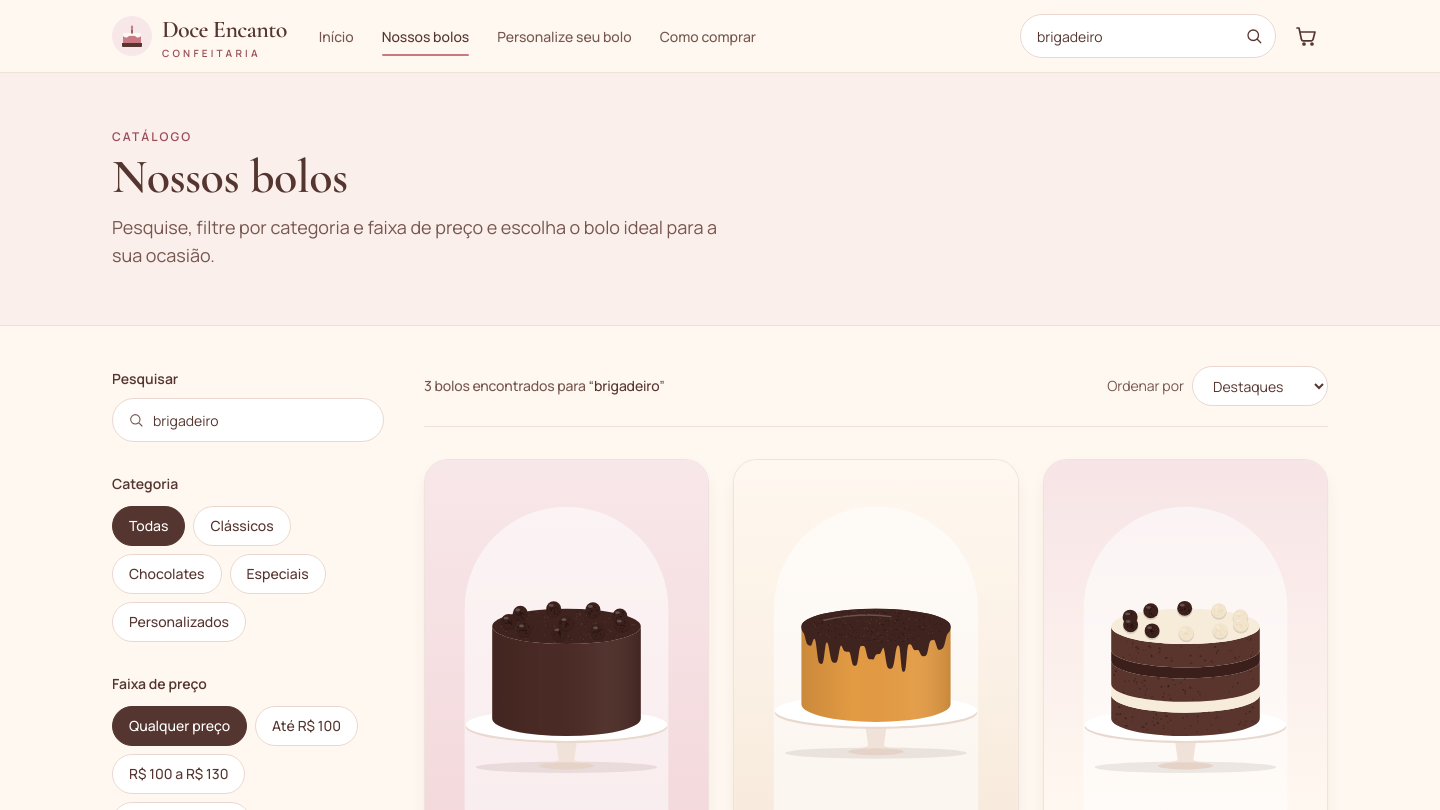
Test: catálogo integrado › combina pesquisa, categoria e preço sem perder a pesquisa
The image size is (1440, 810).
Expected: the heading "3 bolos encontrados para “brigadeiro”" is shown, [424, 376, 665, 396]
Click the radio button labelled "Chocolates".
click(167, 574)  # box [112, 554, 222, 594]
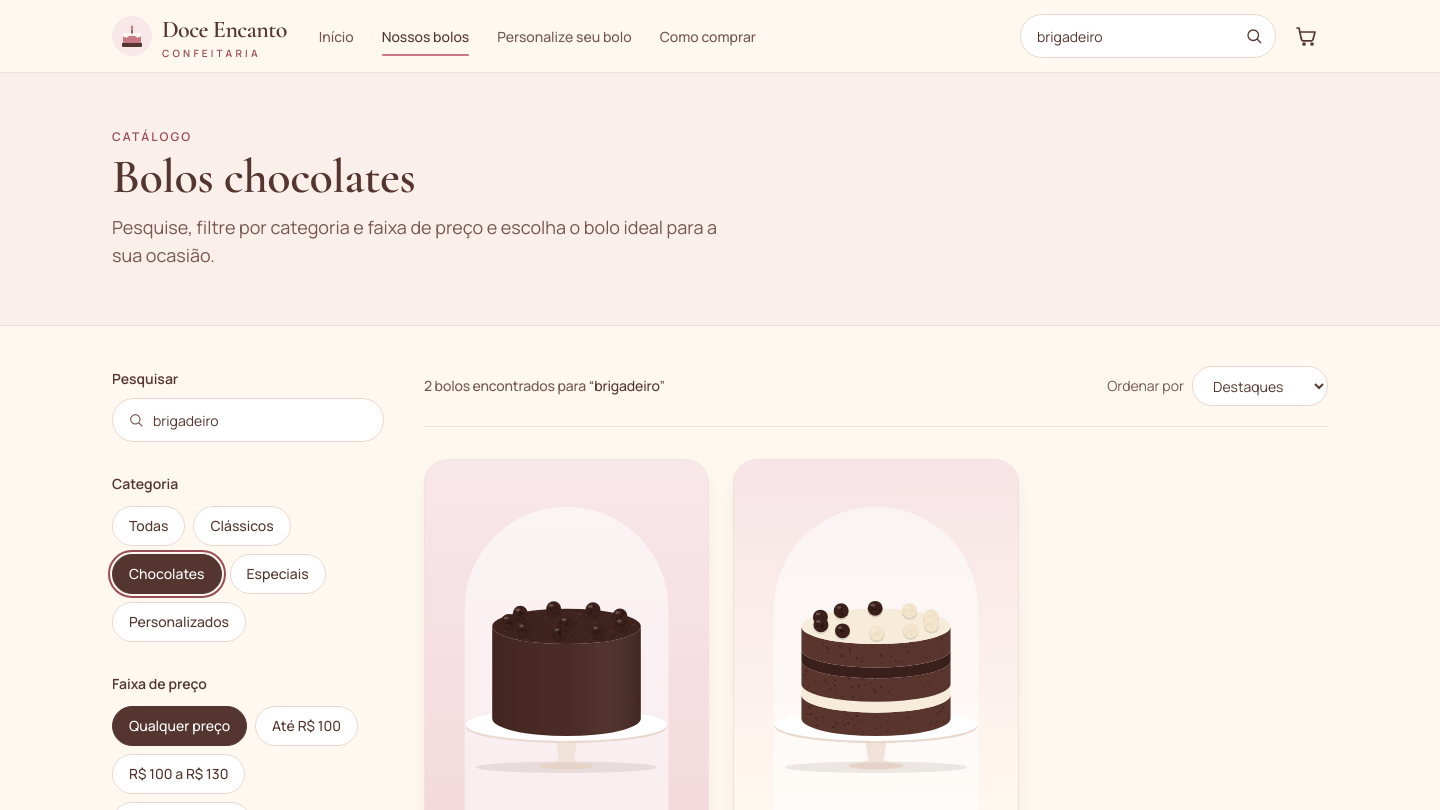
Expected: the heading "2 bolos encontrados para “brigadeiro”" is shown, [424, 376, 665, 396]
Click the radio button labelled "Até R$ 100".
click(306, 726)  # box [255, 706, 358, 746]
(page scrolled)
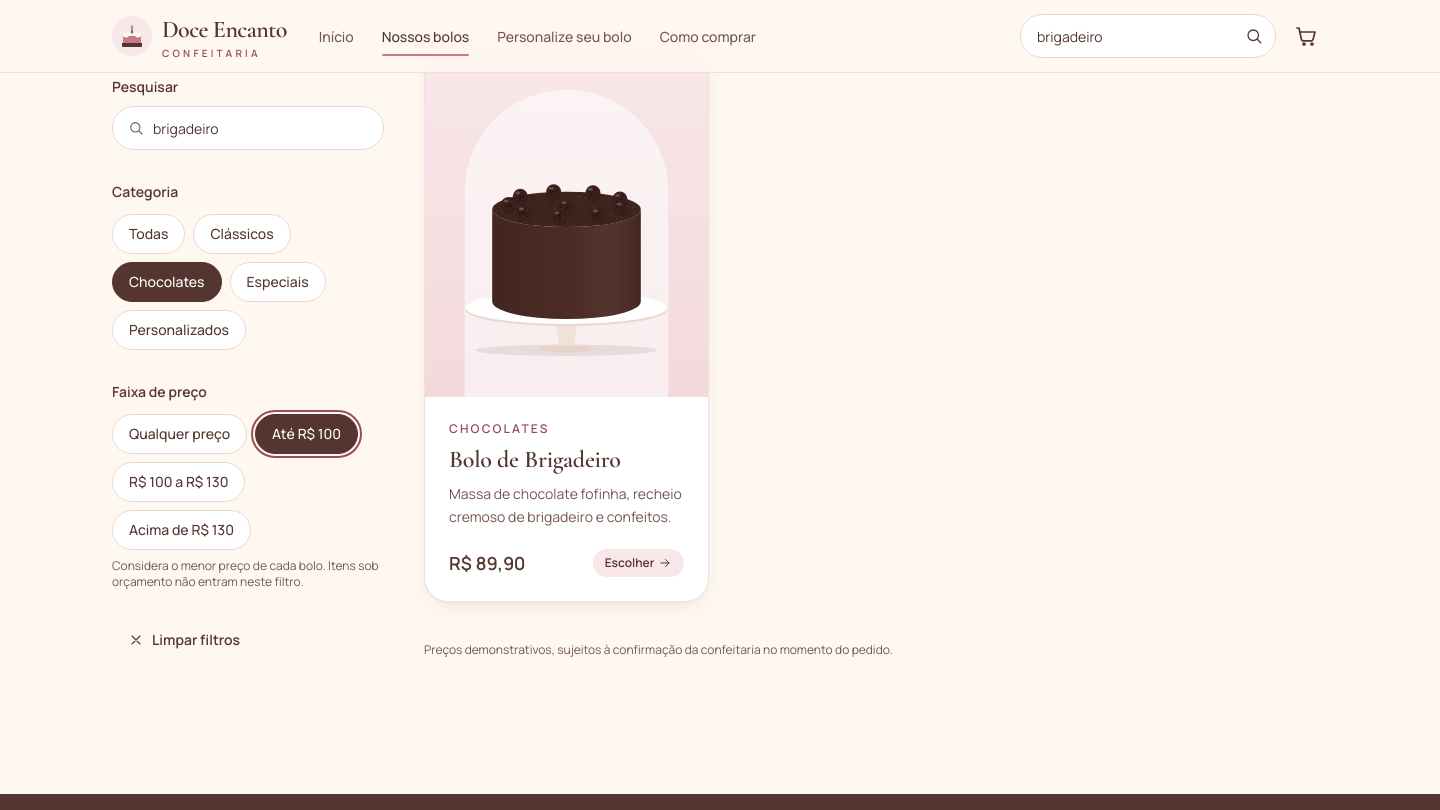
Expected: the link "Bolo de Brigadeiro" is shown, [449, 445, 621, 474]
Click the radio button labelled "Acima de R$ 130".
click(182, 530)  # box [112, 510, 251, 550]
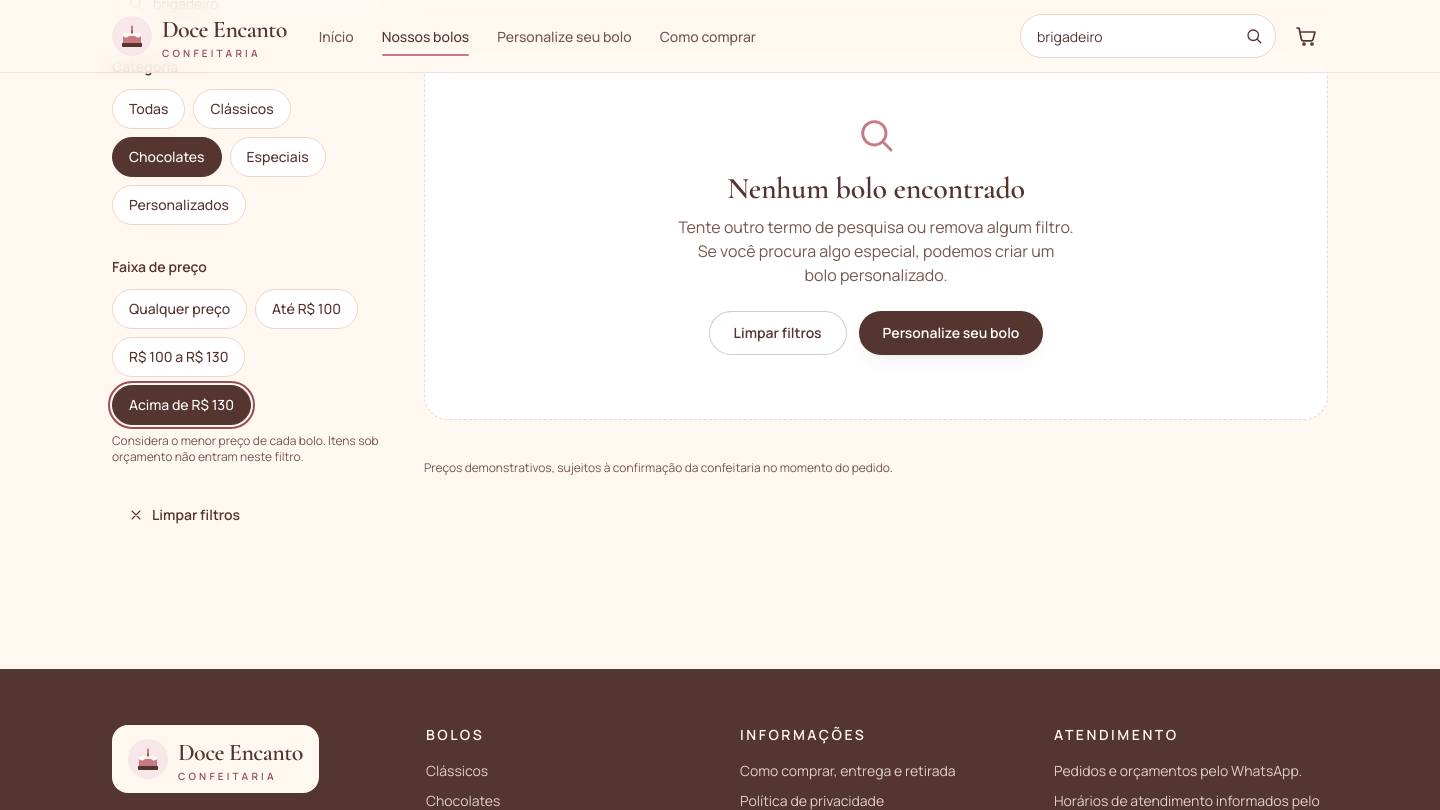
Expected: the heading "Nenhum bolo encontrado" is shown, [727, 170, 1025, 207]
Click the button "Limpar filtros" below "Acima de R$ 130".
click(184, 515)  # box [112, 497, 256, 533]
(page scrolled)
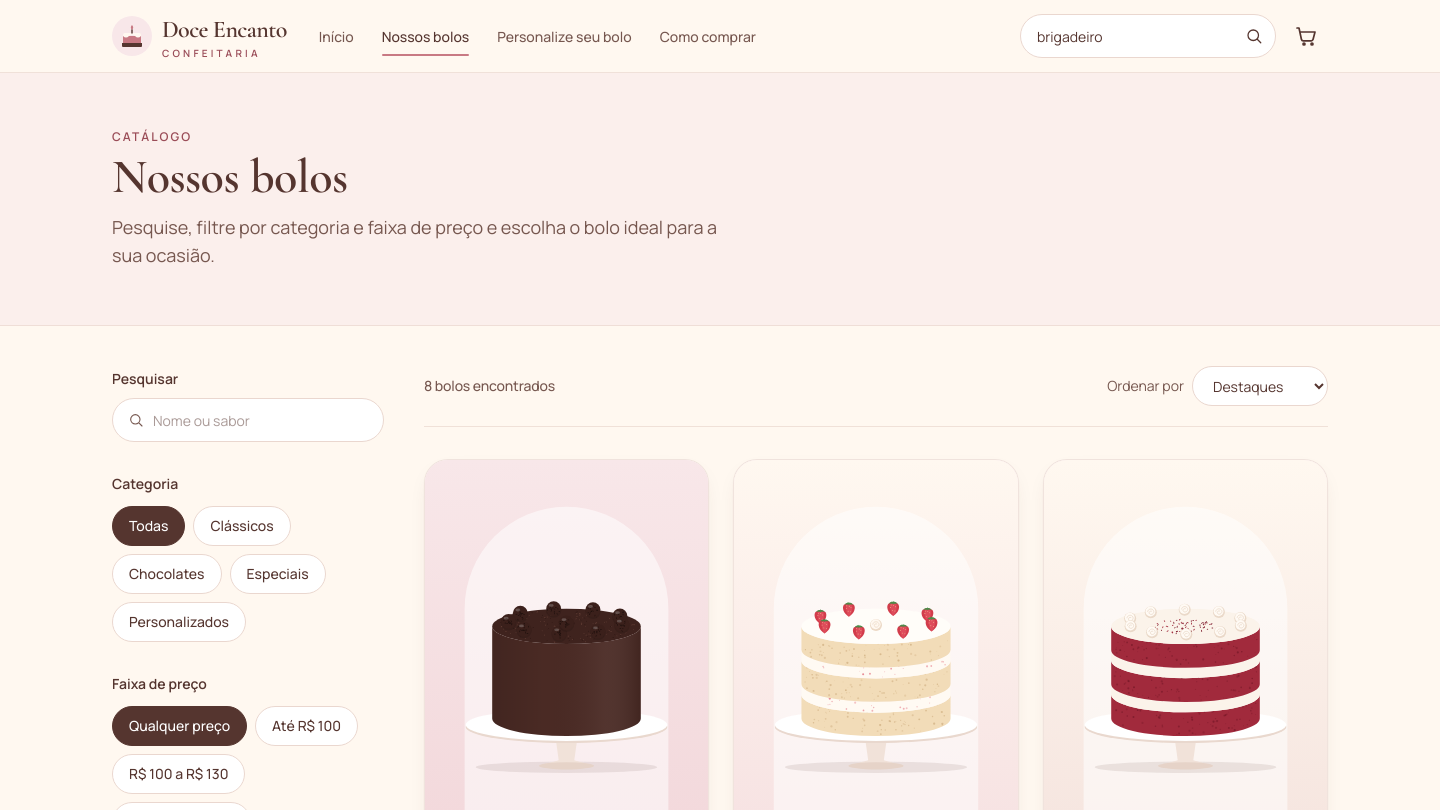
Expected: the heading "8 bolos encontrados" is shown, [424, 376, 555, 396]
